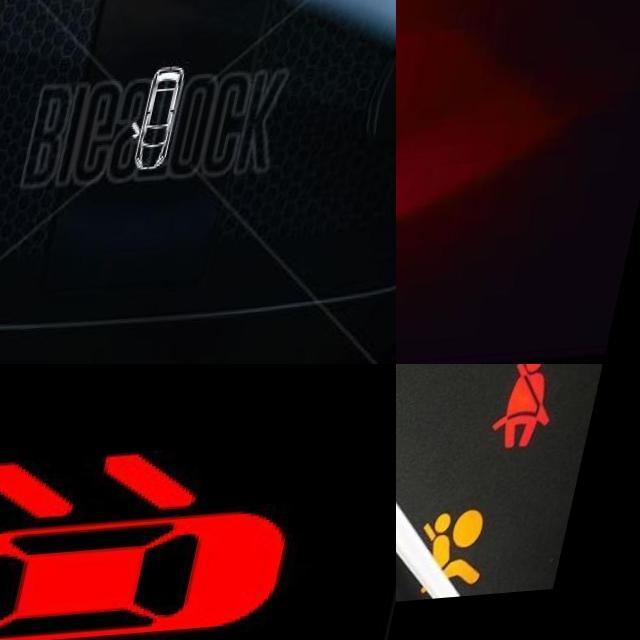Seat Belt: (512, 364, 580, 463)
